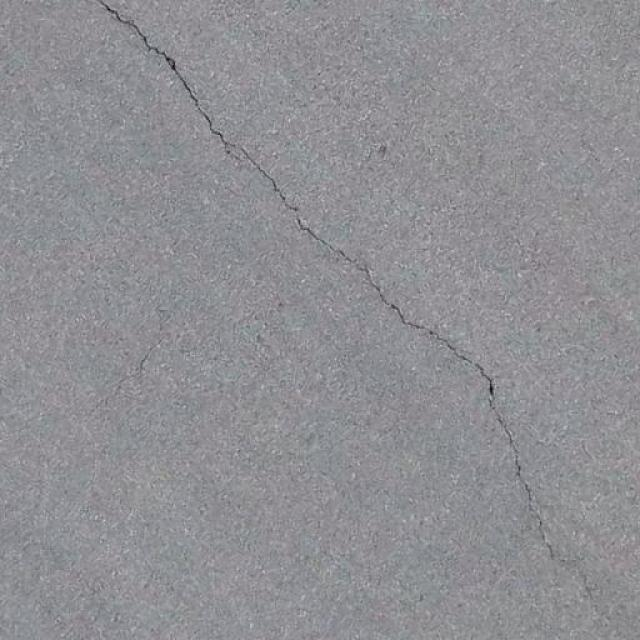Crack: (338, 253, 472, 374), (100, 0, 208, 146), (477, 391, 566, 554), (236, 148, 320, 245)
